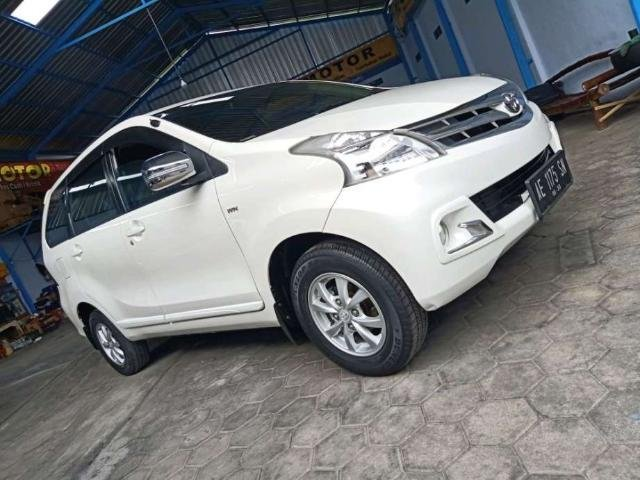mobil: (25, 76, 578, 385)
